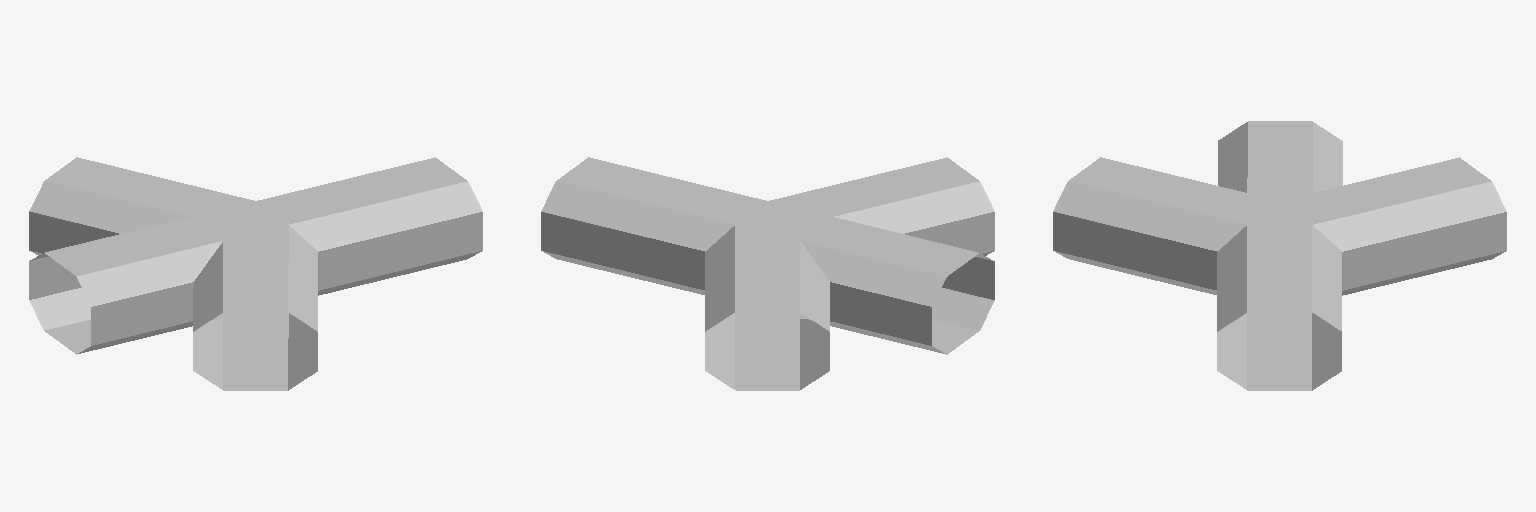
Rendered from Block41.obj.
The picture shows the model from 3 angles: view 1: azimuth 30°, elevation 25°; view 2: azimuth 150°, elevation 25°; view 3: azimuth 270°, elevation 25°; orthographic projection.
Parts seen in each view (by area): view 1: Block41.001_Cylinder.022; view 2: Block41.001_Cylinder.022; view 3: Block41.001_Cylinder.022.
Boxes of the visible parts, box(x1,y1,x2,y2) form: Block41.001_Cylinder.022: box(29, 157, 482, 390); Block41.001_Cylinder.022: box(541, 157, 994, 390); Block41.001_Cylinder.022: box(1053, 121, 1506, 390).
Bounding box in the file's own units: 1.73 × 0.3302 × 1.74.